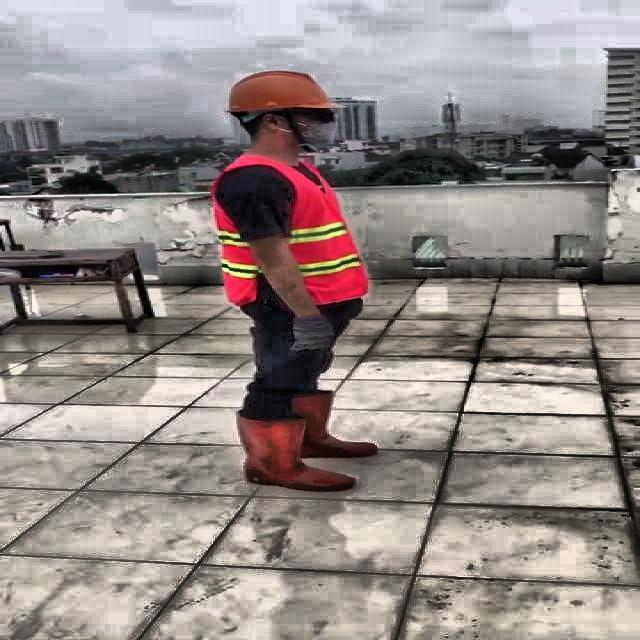safety_helmet: (219, 70, 344, 118)
safety_jacket: (210, 154, 368, 304)
